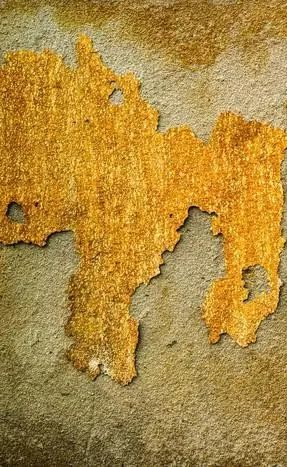Corrosion: (1, 33, 287, 388)
